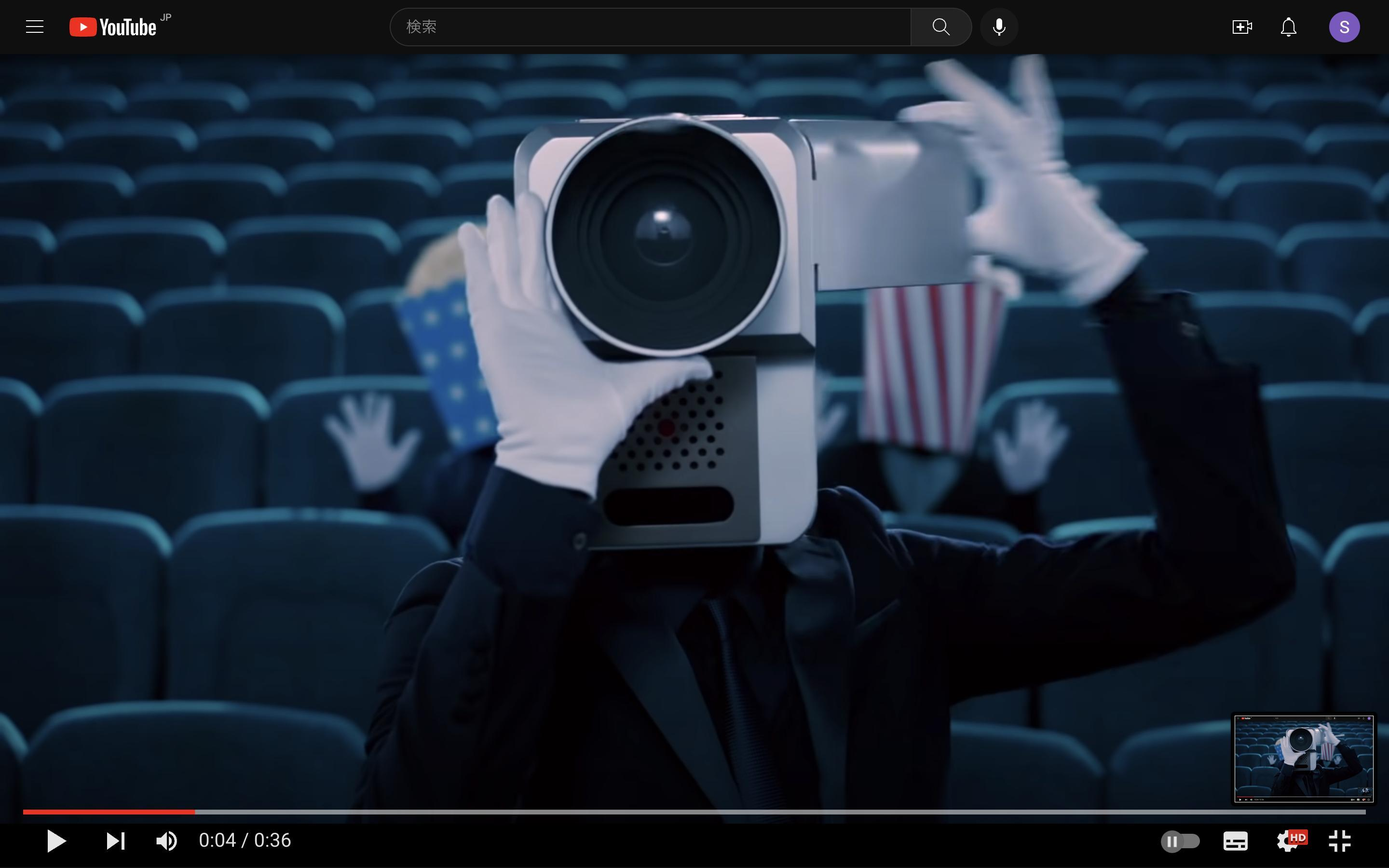no more kid: (512, 120, 978, 555)
